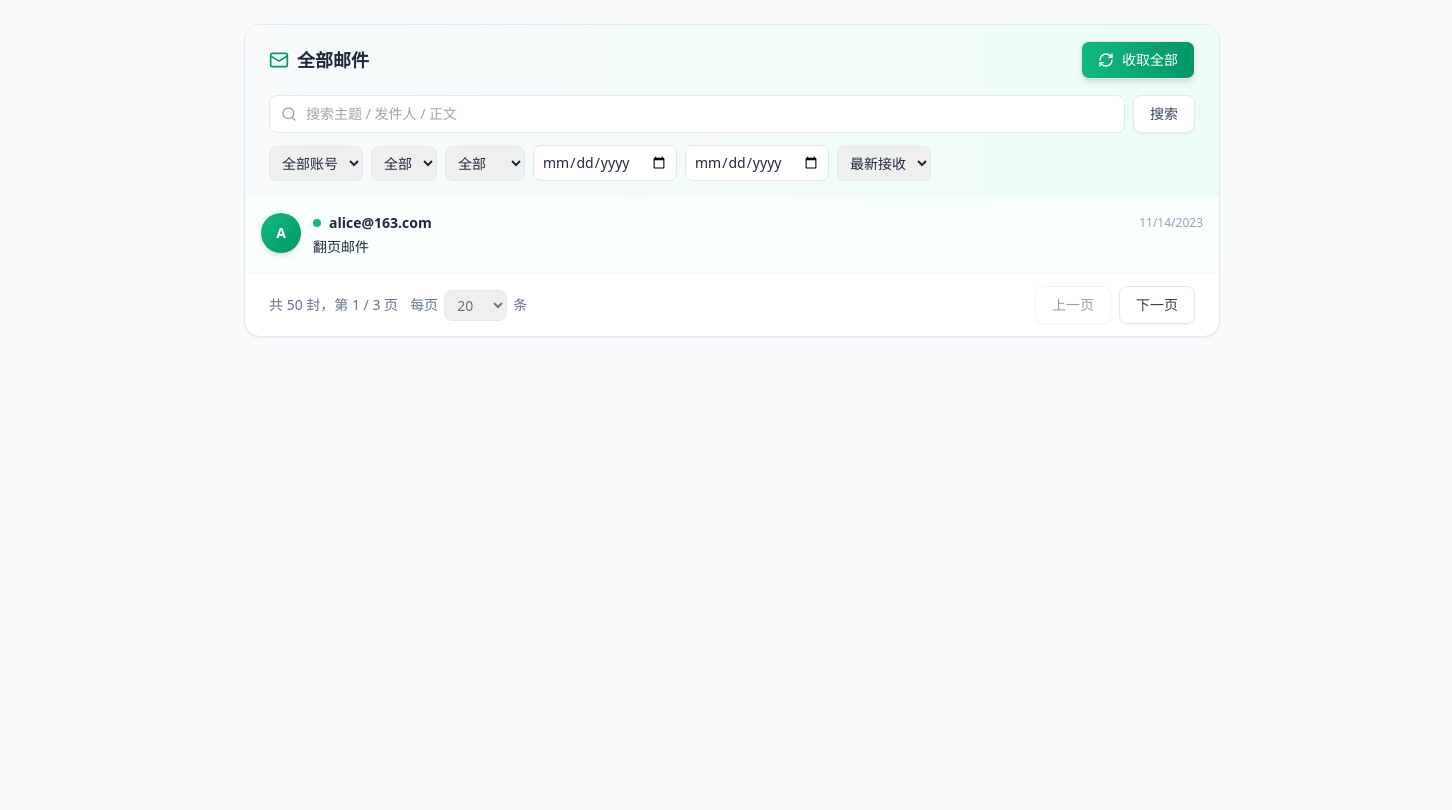
Scenario: AggregateMailPage › 翻页把 page 写入 URL
Click the button "下一页" at (1157, 305), box 1119,286 -> 1195,324
(page scrolled)
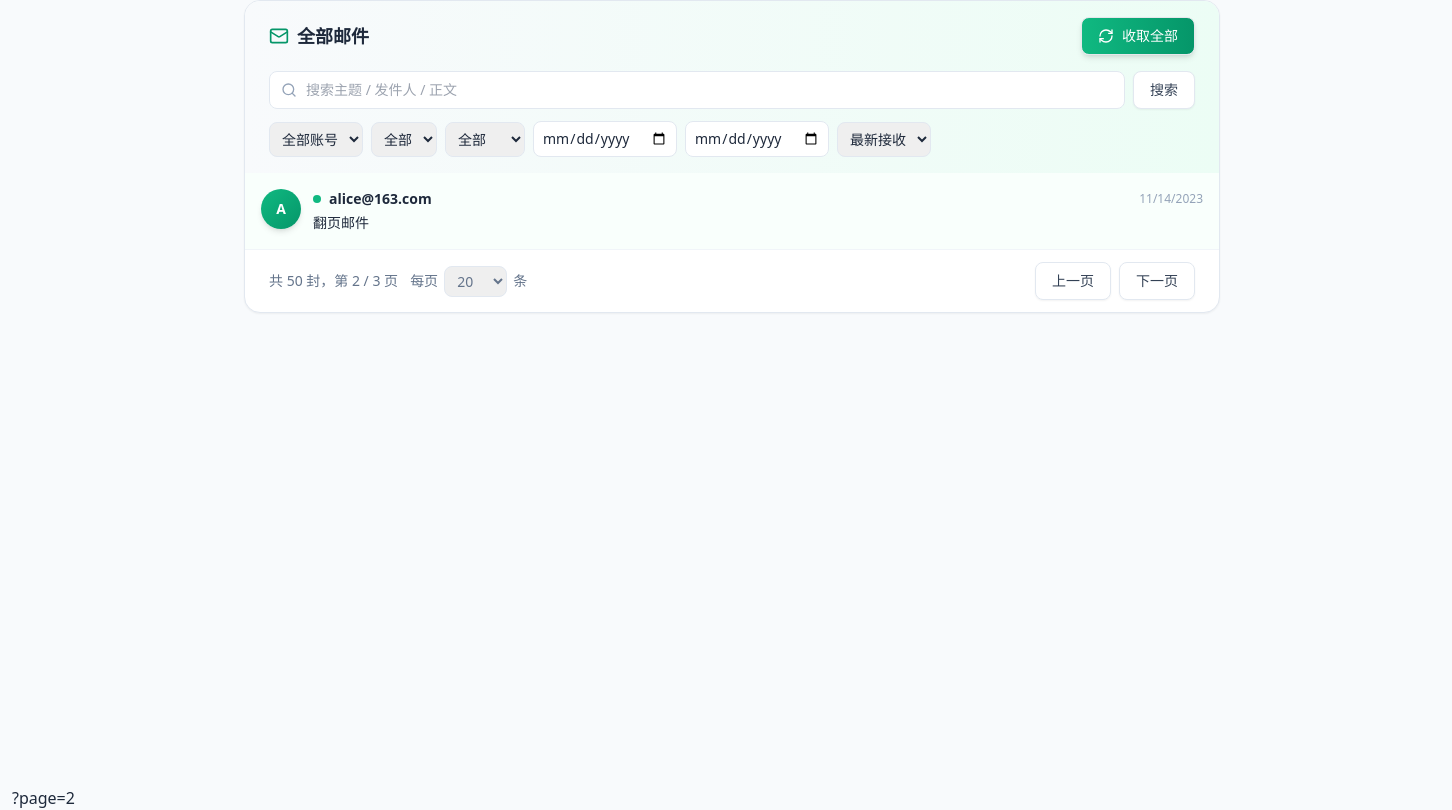
Result: the text with test id "search" shows "page=2" at 12,787 -> 75,809
